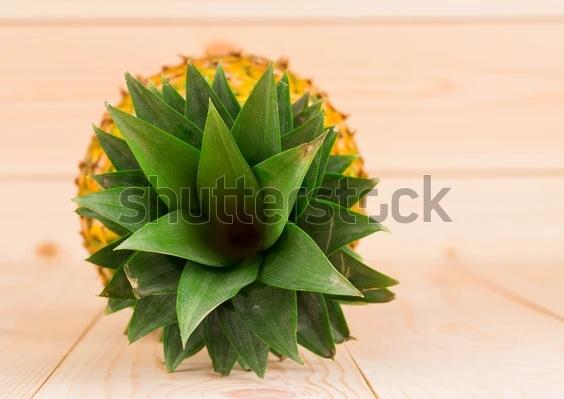pineapple: (77, 40, 418, 387)
